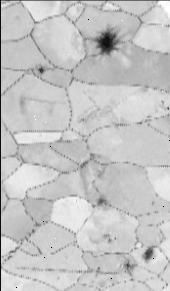good_void: (90, 29, 125, 62), (119, 256, 139, 278), (83, 149, 101, 166), (140, 245, 156, 264), (101, 230, 118, 246), (88, 197, 107, 211), (158, 98, 170, 114), (34, 62, 46, 78), (77, 112, 91, 125), (92, 263, 102, 273)
